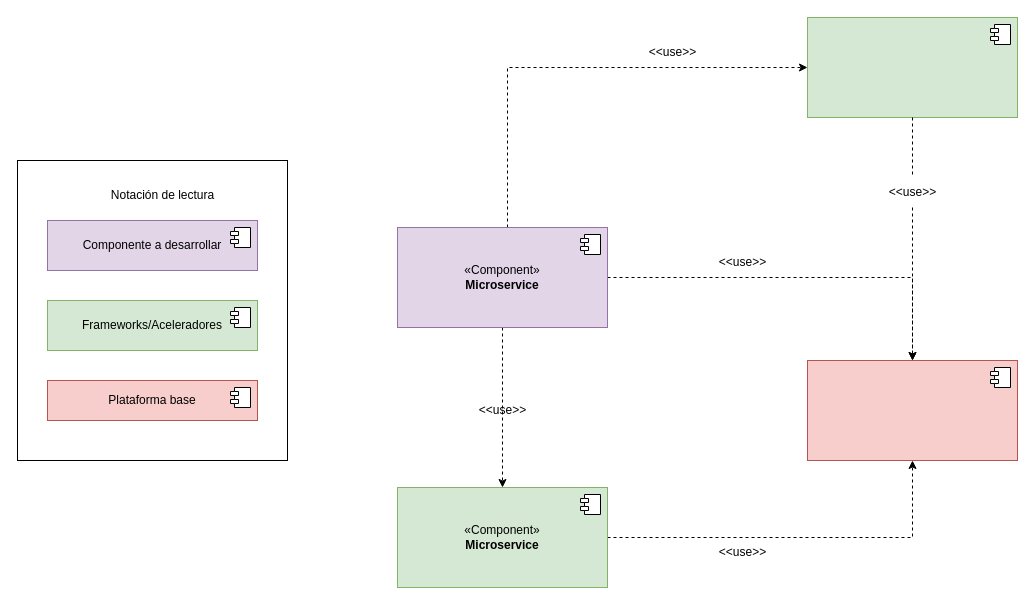
This 1035x605 diagram has some shape labels left out. The shapes that lost their labels are listed below. From the top down, each one's centre as x and y in pixels, then its label:
At point 912,67: "«Component» Spring Framework 3.1.5".
At point 912,410: "«Component» Java 21".
